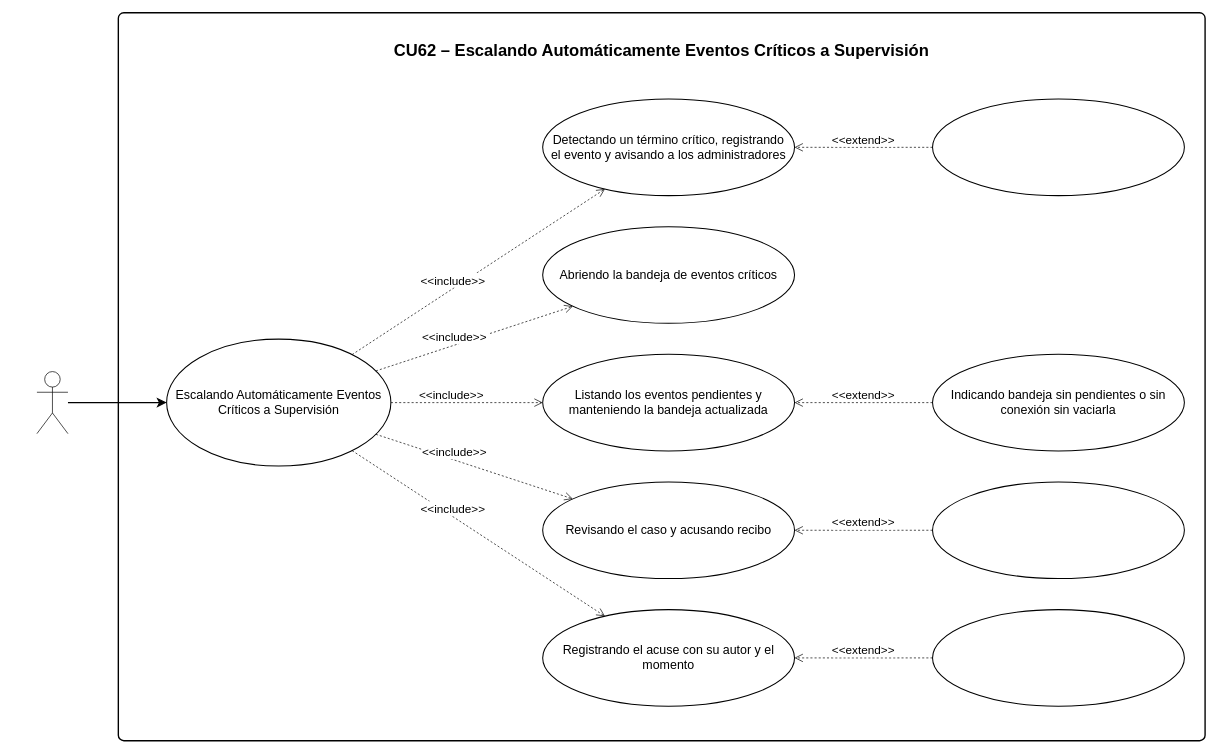
The diagram is 1218 pixels wide and 753 high, and some of its shapes have lost their labels. The centre of each missing label's shape, as x and y in pixels:
Administrador: (52,402)
Avisando a todos los administradores por la aplicación y por correo: (1058,147)
Manteniendo el evento pendiente o informando que ya fue acusado: (1058,530)
Reintentando automáticamente el acuse no guardado: (1058,657)
